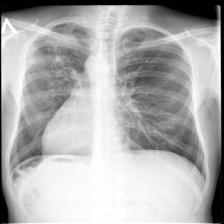tuberculosis: (5, 13, 210, 197)
